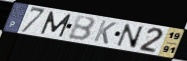2: (138, 27, 166, 54)
7: (19, 6, 47, 34)
B: (67, 15, 97, 42)
K: (92, 19, 118, 46)
M: (39, 10, 73, 38)
N: (116, 23, 144, 50)
